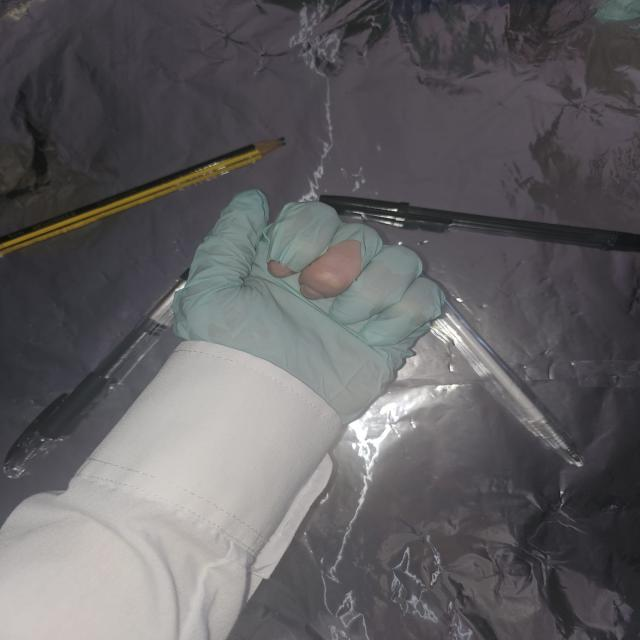gloves_damaged: (171, 185, 451, 428)
